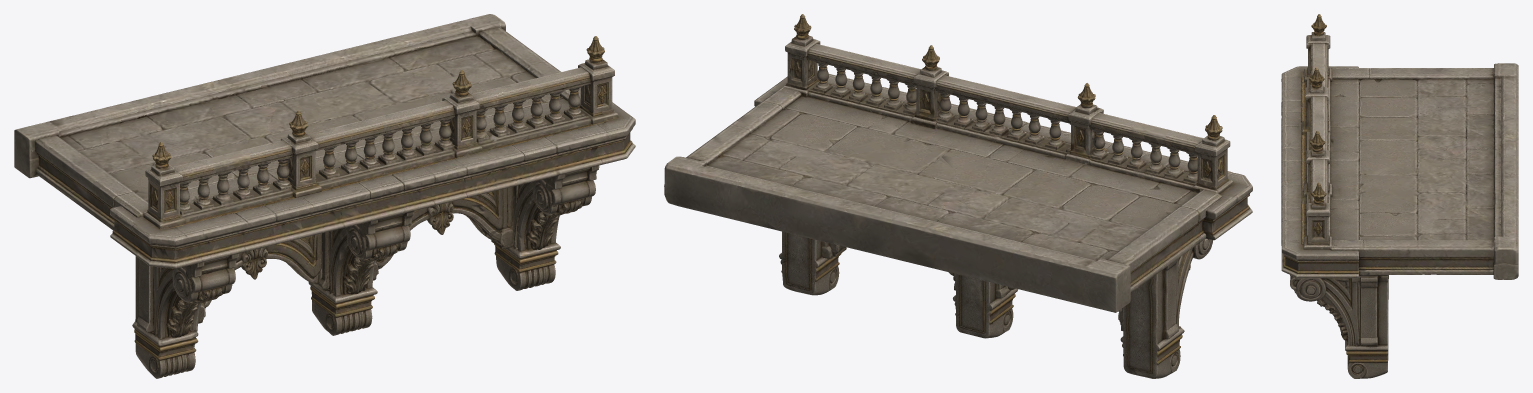
The model's file is Meshy_AI_model.glb.
The picture shows the model from 3 angles, left to right: view 1: azimuth 30°, elevation 25°; view 2: azimuth 150°, elevation 25°; view 3: azimuth 270°, elevation 25°; orthographic projection. The views are drawn at different scales.
Visible parts, largest first — view 1: mesh_node; view 2: mesh_node; view 3: mesh_node.
Part boxes in pixels (x1,y1,x2,y2): mesh_node: (14,14,635,378); mesh_node: (664,14,1252,378); mesh_node: (1281,14,1518,378).
Bounding box in the file's own units: 1.9 × 0.9636 × 1.01.
1 material, 1 textured.
